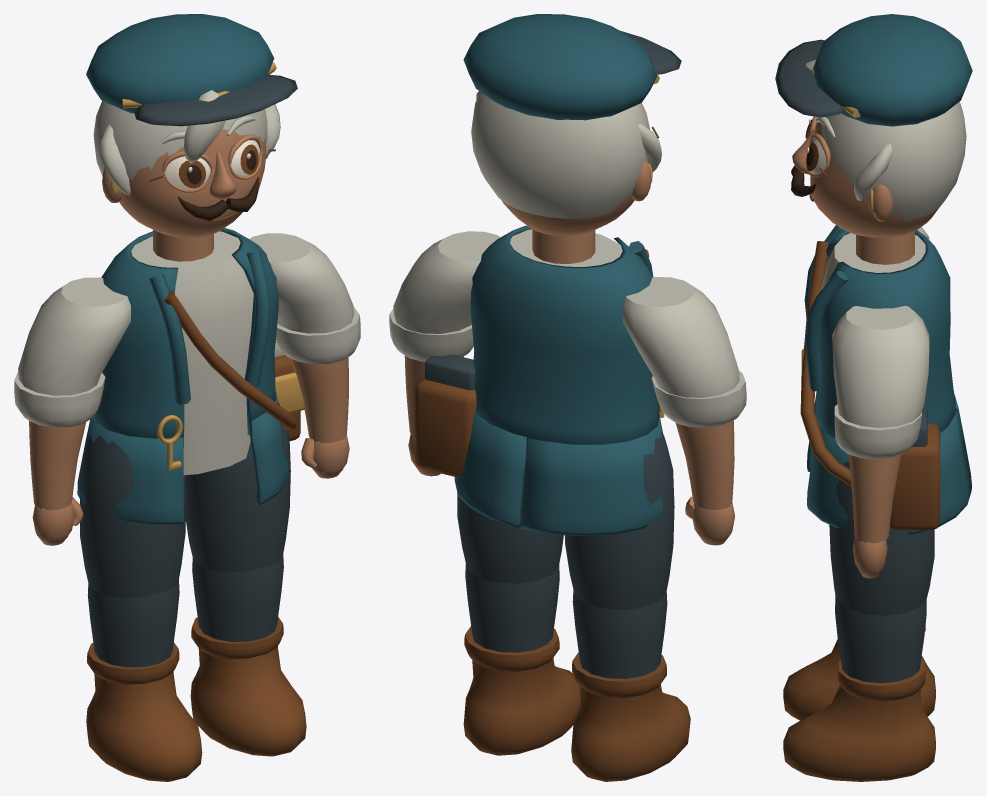
Rendered from world01-keeper-v1.glb.
The picture shows the model from 3 angles, left to right: view 1: azimuth 30°, elevation 25°; view 2: azimuth 150°, elevation 25°; view 3: azimuth 270°, elevation 25°; orthographic projection. The views are drawn at different scales.
Parts seen in each view (by area): view 1: hero-upper__MAT_teal, hero-upper__MAT_linen, head-joint__MAT_teal, left-shoulder__MAT_linen, right-knee__MAT_leather, left-knee__MAT_leather, left-hip__MAT_teal_dark, right-hip__MAT_teal_dark, head-joint__MAT_skin, right-shoulder__MAT_linen, head-joint__MAT_linen, left-knee__MAT_teal_dark (+11 smaller); view 2: hero-upper__MAT_teal, head-joint__MAT_linen, head-joint__MAT_teal, left-shoulder__MAT_linen, left-hip__MAT_teal, left-knee__MAT_leather, right-knee__MAT_leather, left-hip__MAT_teal_dark, right-shoulder__MAT_linen, right-knee__MAT_teal_dark, left-knee__MAT_teal_dark, right-hip__MAT_teal_dark (+8 smaller); view 3: head-joint__MAT_teal, right-shoulder__MAT_linen, right-knee__MAT_leather, hero-upper__MAT_teal, head-joint__MAT_linen, right-hip__MAT_teal_dark, head-joint__MAT_skin, hero-upper__MAT_leather, right-knee__MAT_teal_dark, right-hip__MAT_teal, right-elbow__MAT_skin, left-knee__MAT_leather (+3 smaller).
Boxes of the visible parts, x1,y1,x2,y2 form: hero-upper__MAT_teal: (94, 228, 278, 448); hero-upper__MAT_linen: (131, 231, 284, 475); head-joint__MAT_teal: (86, 14, 274, 113); left-shoulder__MAT_linen: (14, 277, 130, 427); right-knee__MAT_leather: (190, 617, 306, 756); left-knee__MAT_leather: (86, 642, 202, 781); left-hip__MAT_teal_dark: (80, 435, 186, 598); right-hip__MAT_teal_dark: (185, 401, 290, 572); head-joint__MAT_skin: (102, 129, 265, 261); right-shoulder__MAT_linen: (249, 233, 360, 364); head-joint__MAT_linen: (93, 90, 280, 195); left-knee__MAT_teal_dark: (87, 579, 179, 667); hero-upper__MAT_teal: (470, 225, 659, 453); head-joint__MAT_linen: (471, 91, 661, 218); head-joint__MAT_teal: (463, 14, 657, 120); left-shoulder__MAT_linen: (622, 277, 746, 427); left-hip__MAT_teal: (521, 415, 663, 536); left-knee__MAT_leather: (571, 652, 690, 781); right-knee__MAT_leather: (463, 626, 580, 755); left-hip__MAT_teal_dark: (564, 431, 674, 609); right-shoulder__MAT_linen: (389, 231, 500, 361); right-knee__MAT_teal_dark: (465, 563, 559, 652); left-knee__MAT_teal_dark: (572, 590, 667, 678); right-hip__MAT_teal_dark: (457, 474, 563, 583); head-joint__MAT_teal: (813, 14, 972, 126); right-shoulder__MAT_linen: (832, 305, 929, 459); right-knee__MAT_leather: (783, 659, 935, 781); hero-upper__MAT_teal: (804, 225, 955, 437); head-joint__MAT_linen: (805, 59, 966, 220); right-hip__MAT_teal_dark: (829, 461, 934, 615); head-joint__MAT_skin: (792, 116, 938, 264); hero-upper__MAT_leather: (800, 241, 940, 530); right-knee__MAT_teal_dark: (835, 596, 926, 683); right-hip__MAT_teal: (807, 408, 971, 534); right-elbow__MAT_skin: (848, 454, 901, 578); left-knee__MAT_leather: (783, 626, 935, 720).
Size of the model in its own units: 1.09 by 2.2 by 0.5558.
